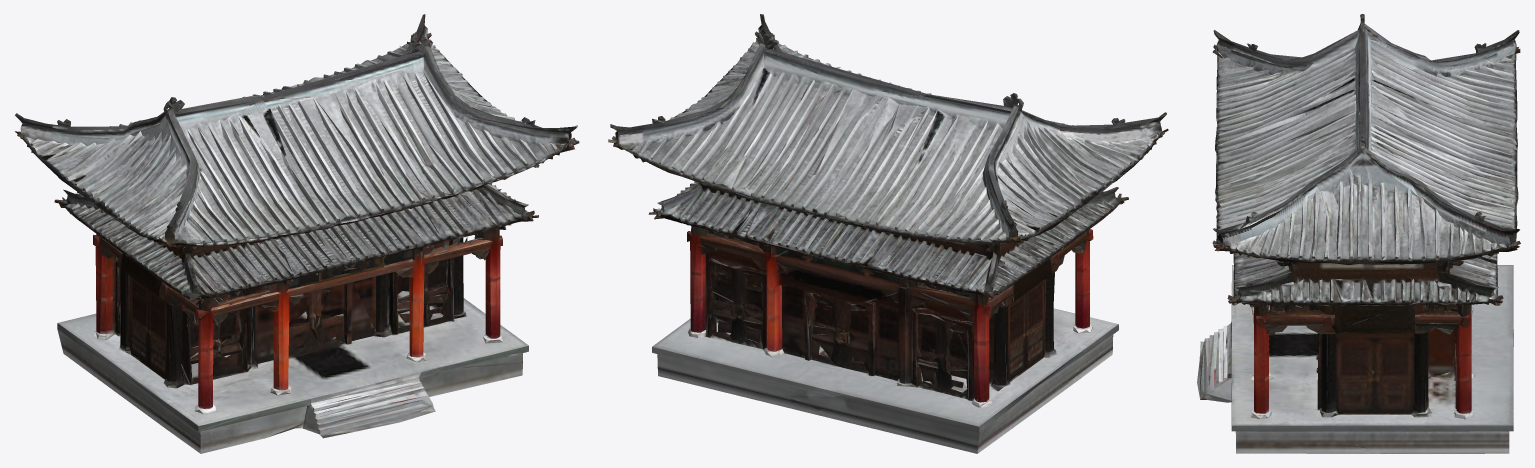
File: ancestral-hall-v1.glb
3 views of the same model, side by side, from view 1: azimuth 30°, elevation 25°; view 2: azimuth 150°, elevation 25°; view 3: azimuth 270°, elevation 25° (orthographic).
Size of the model in its own units: 1.9 by 1.32 by 1.29.
Materials: 1 (1 with a texture image).
